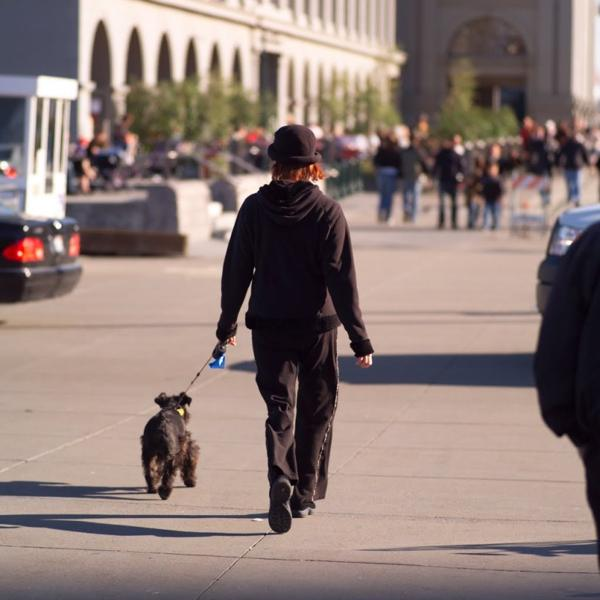person: (214, 126, 373, 533)
